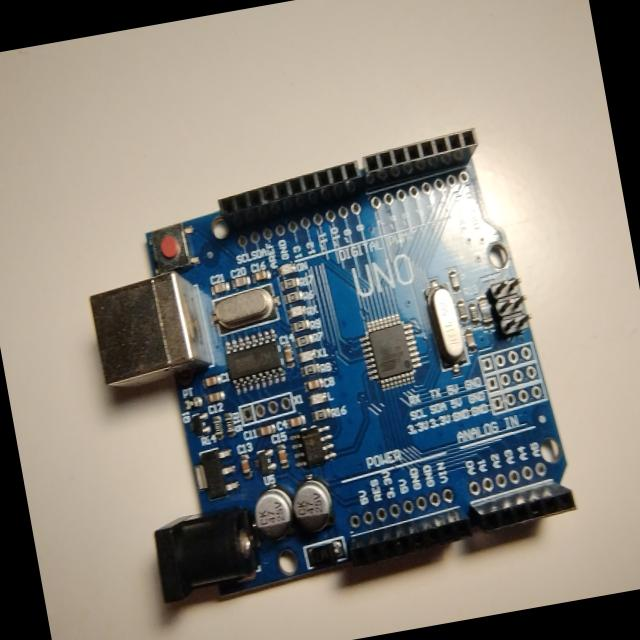arduino: (73, 113, 599, 616)
